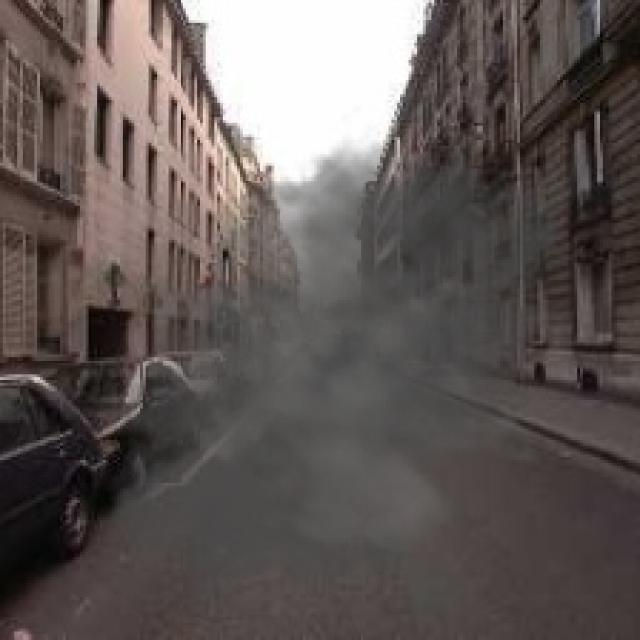Smoke: (71, 102, 600, 634)
